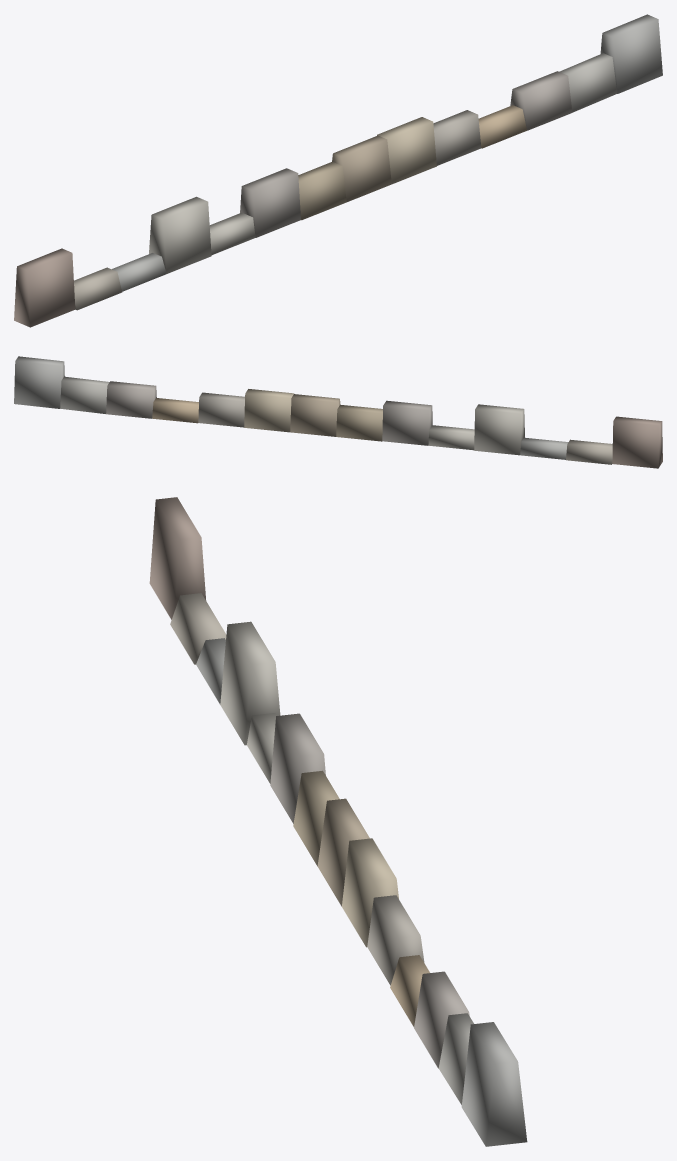
The model's file is farm_3_8_collision.glb.
3 views of the same model, one above another, from view 1: azimuth 30°, elevation 25°; view 2: azimuth 150°, elevation 25°; view 3: azimuth 270°, elevation 25° (orthographic). The views are drawn at different scales.
Parts seen in each view (by area): view 1: geometry_0; view 2: geometry_0; view 3: geometry_0.
Boxes of the visible parts, box(x1,y1,x2,y2) form: geometry_0: box(14, 14, 662, 327); geometry_0: box(14, 356, 662, 468); geometry_0: box(149, 497, 527, 1146).
Size of the model in its own units: 21.79 by 1.86 by 6.33.
